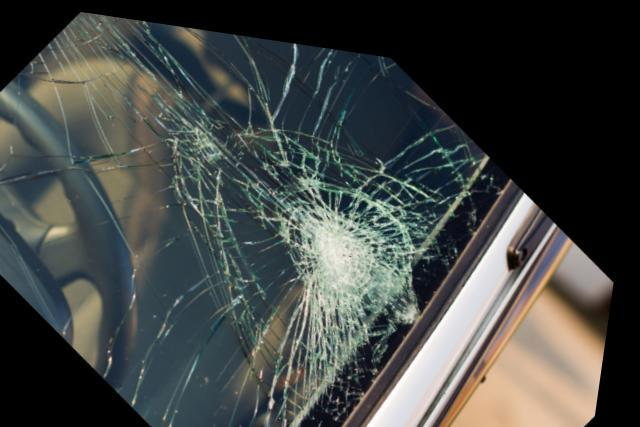glass shatter: (0, 9, 514, 427)
